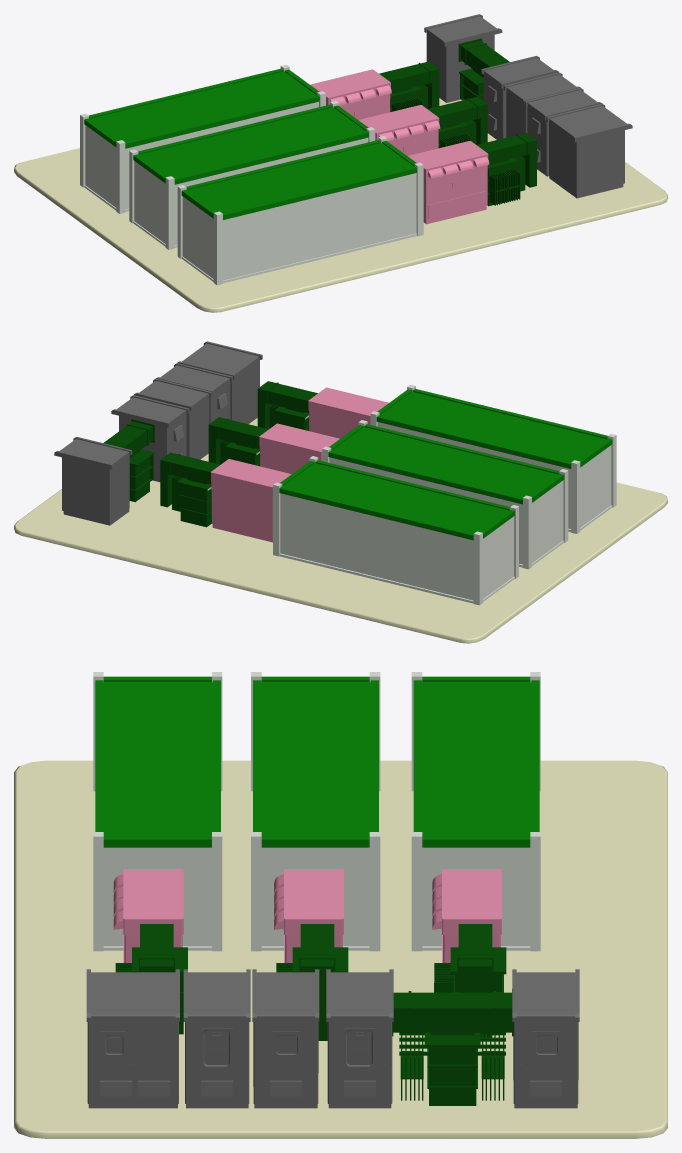
The model's file is Area_D.fbx.
The picture shows the model from 3 angles, top to bottom: view 1: azimuth 30°, elevation 25°; view 2: azimuth 150°, elevation 25°; view 3: azimuth 270°, elevation 25°; orthographic projection. The views are drawn at different scales.
Parts seen in each view (by area): view 1: Area_D; view 2: Area_D; view 3: Area_D.
Part boxes in pixels (x1,y1,x2,y2): Area_D: (14,14,667,312); Area_D: (14,341,667,643); Area_D: (14,672,667,1138).
Size of the model in its own units: 79.38 by 12.06 by 58.87.
